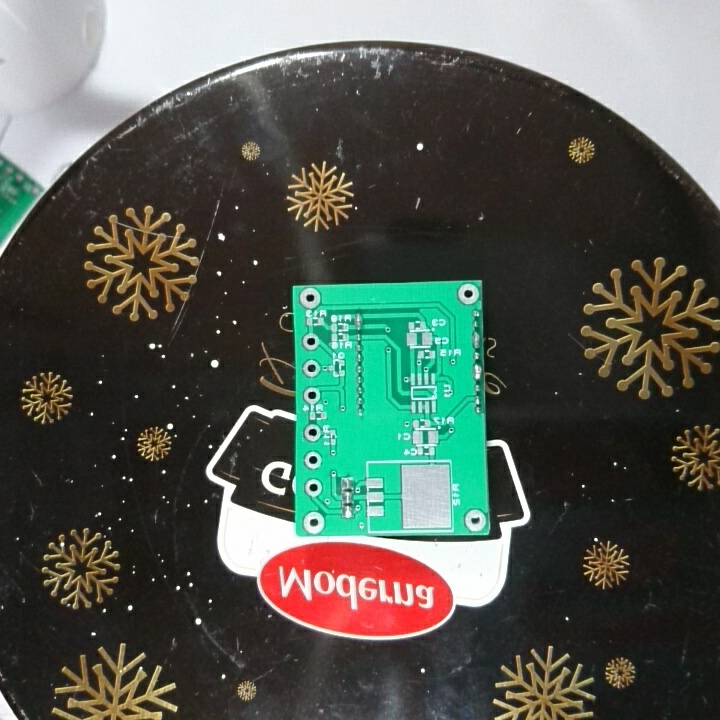F: (301, 509, 327, 535), (297, 287, 325, 311), (462, 507, 488, 532), (455, 283, 480, 305), (300, 383, 322, 406), (302, 449, 324, 471), (302, 477, 324, 499), (302, 422, 323, 443), (300, 332, 321, 352), (302, 358, 320, 379)
P: (352, 309, 366, 332), (470, 328, 483, 351), (471, 361, 484, 382)
